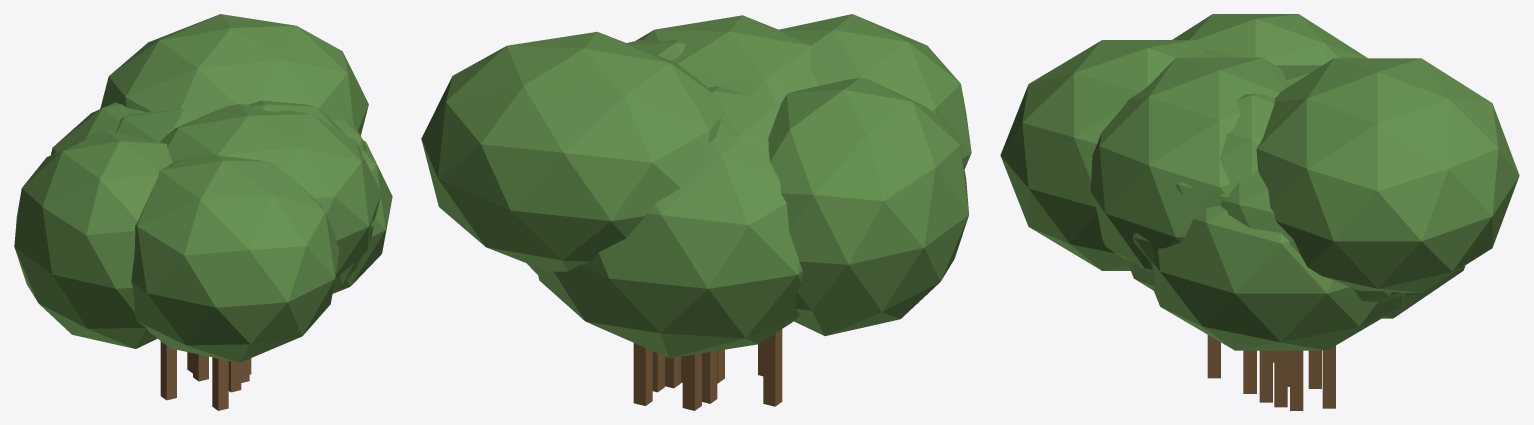
The model's file is shrub-3.glb.
3 views of the same model, side by side, from view 1: azimuth 30°, elevation 25°; view 2: azimuth 150°, elevation 25°; view 3: azimuth 270°, elevation 25° (orthographic). The views are drawn at different scales.
Parts seen in each view (by area): view 1: shrub-3; view 2: shrub-3; view 3: shrub-3.
Boxes of the visible parts, <box> form: shrub-3: <box>14,14,392,410</box>; shrub-3: <box>421,14,971,410</box>; shrub-3: <box>1000,14,1519,410</box>.
Bounding box in the file's own units: 2.53 × 2 × 2.7.
